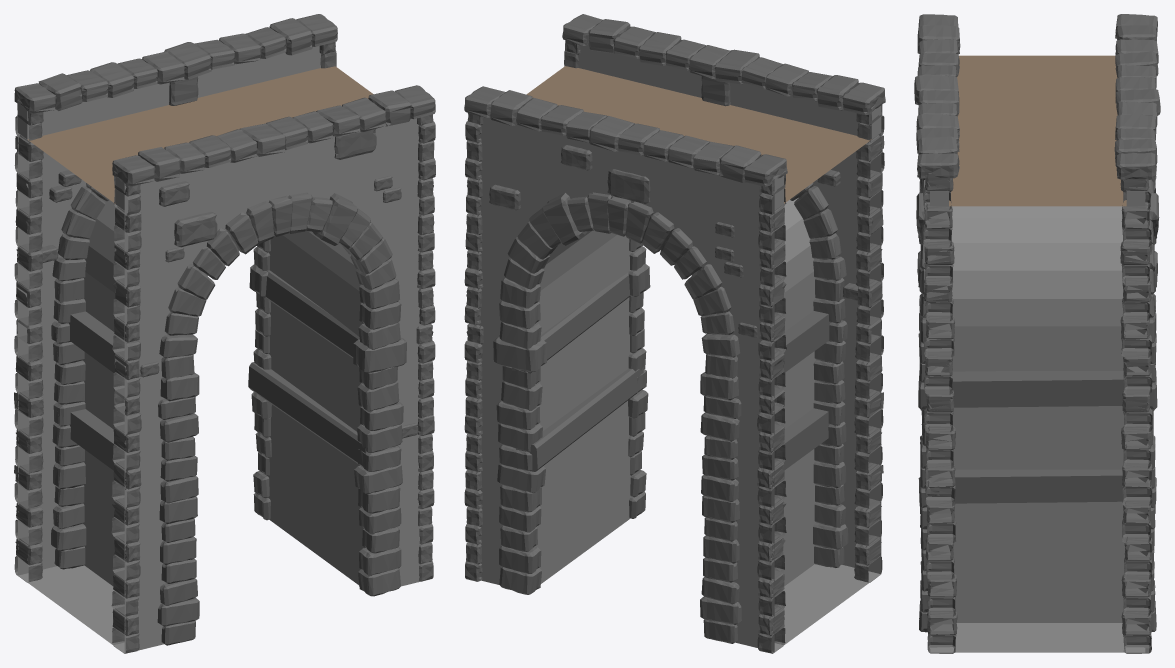
Rendered from Bridge section 1.fbx.
The picture shows the model from 3 angles, left to right: view 1: azimuth 30°, elevation 25°; view 2: azimuth 150°, elevation 25°; view 3: azimuth 270°, elevation 25°; orthographic projection.
Parts seen in each view (by area): view 1: Bridge section 1; view 2: Bridge section 1; view 3: Bridge section 1.
Boxes of the visible parts, box(x1,y1,x2,y2) form: Bridge section 1: box(14, 14, 435, 653); Bridge section 1: box(464, 14, 885, 653); Bridge section 1: box(914, 14, 1160, 653).
Bounding box in the file's own units: 11.32 × 17.08 × 7.75.
